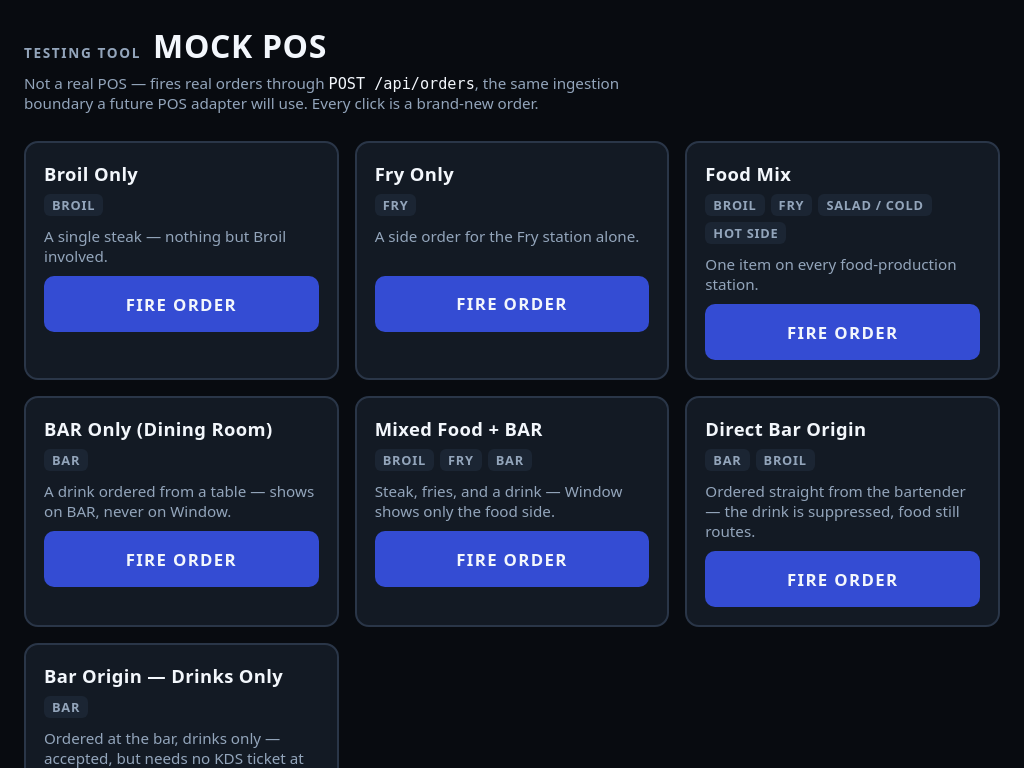
it: MockPosPage › surfaces a validation (400) rejection cleanly
Click the button "FIRE ORDER" below "Broil Only" at x=181, y=304, box [44,276,319,332]
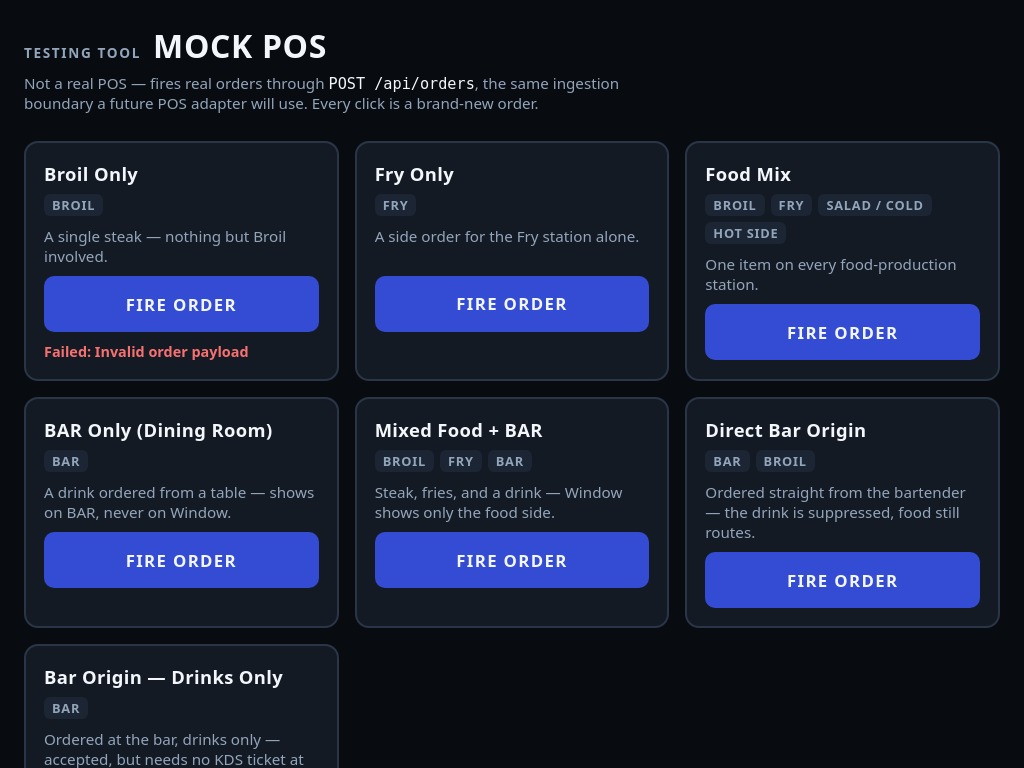
expect the text "Failed: Invalid order payload" is shown: met, box [44,342,248,361]
